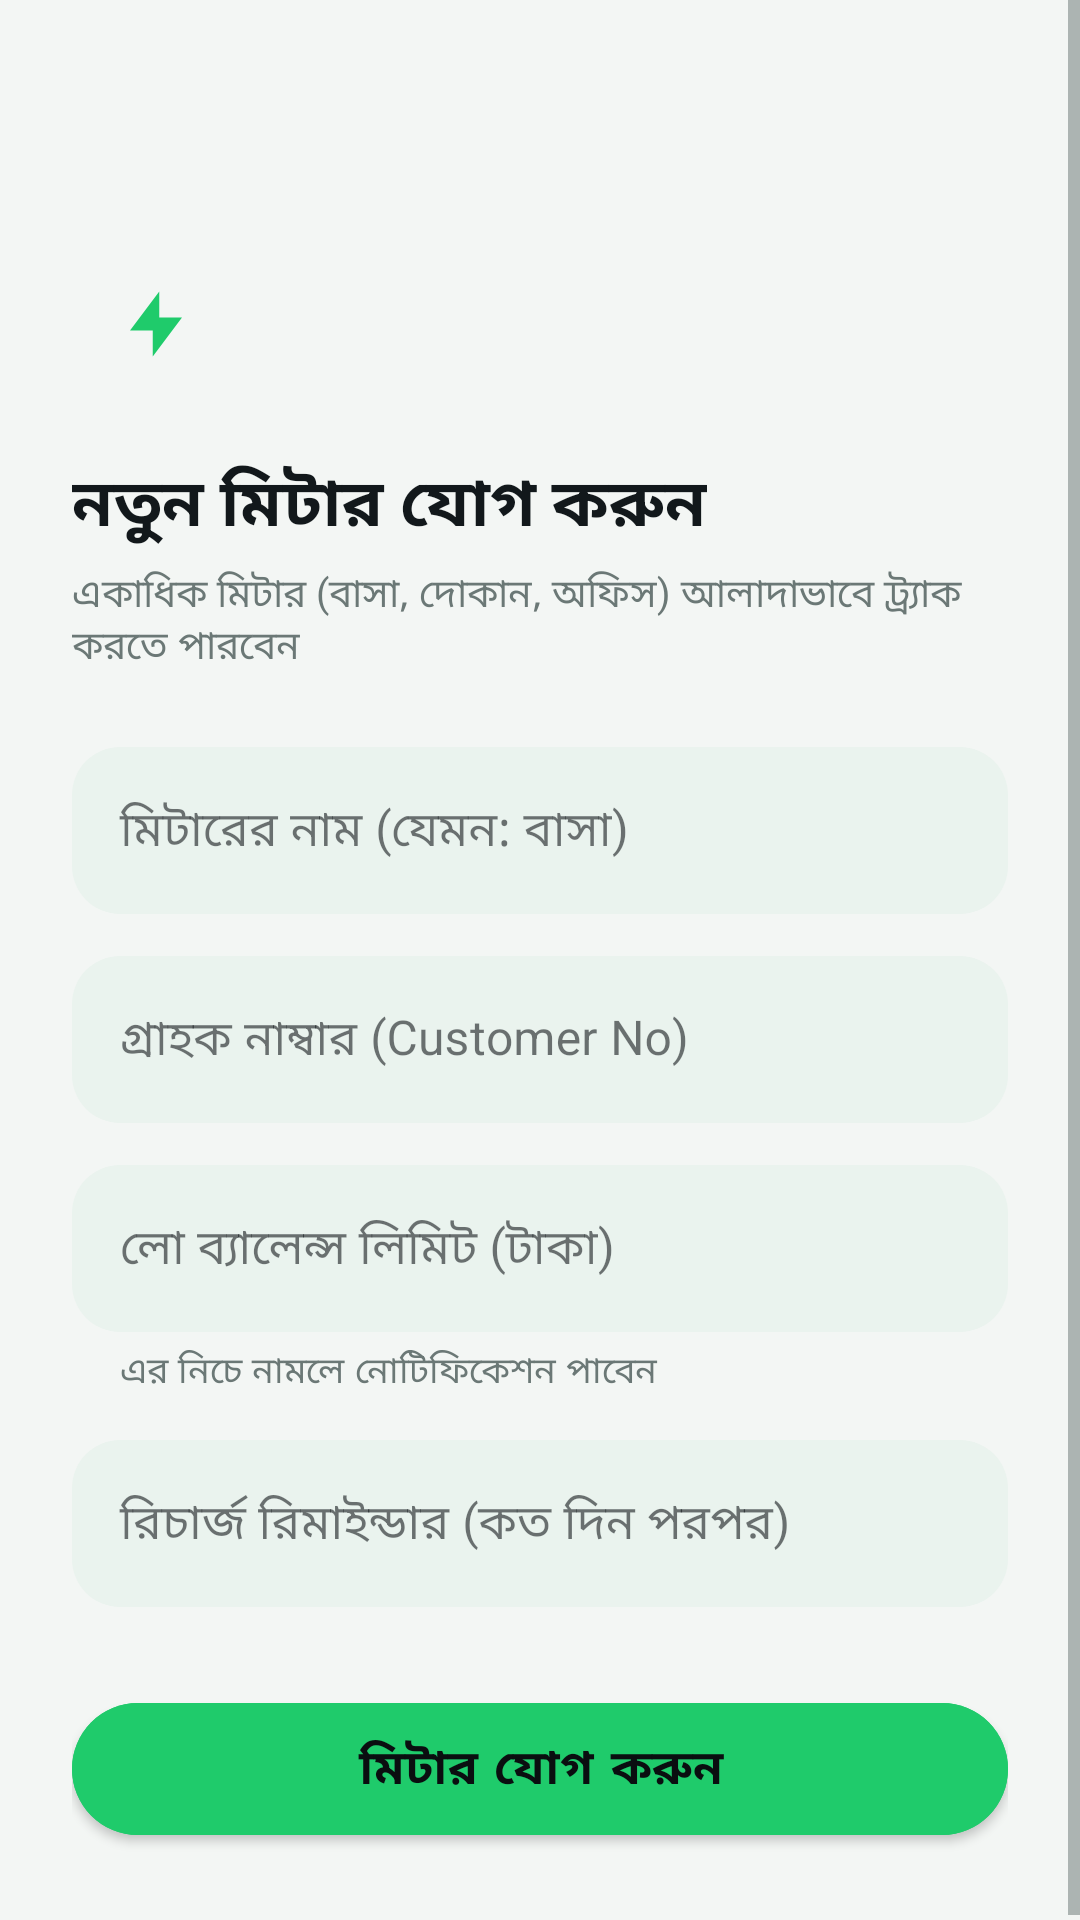

Icon click points for this 1080*1920 phone screenshot, format [x,y]:
bolt: [156,324]
